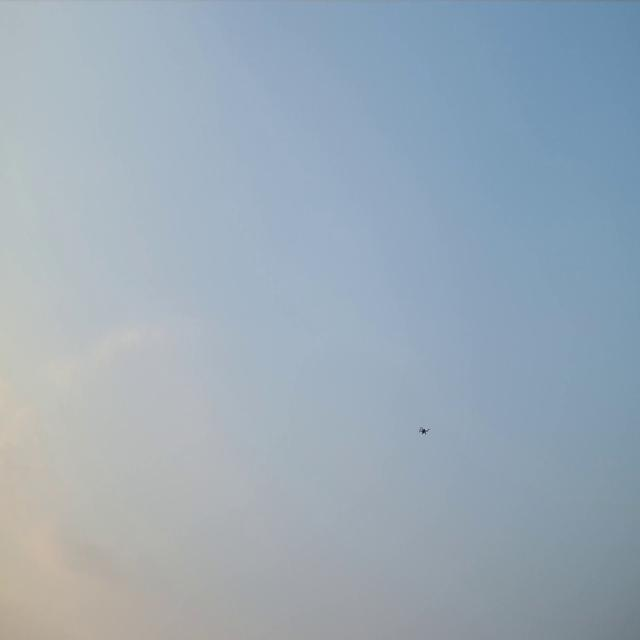UAV: (419, 427, 429, 434)
